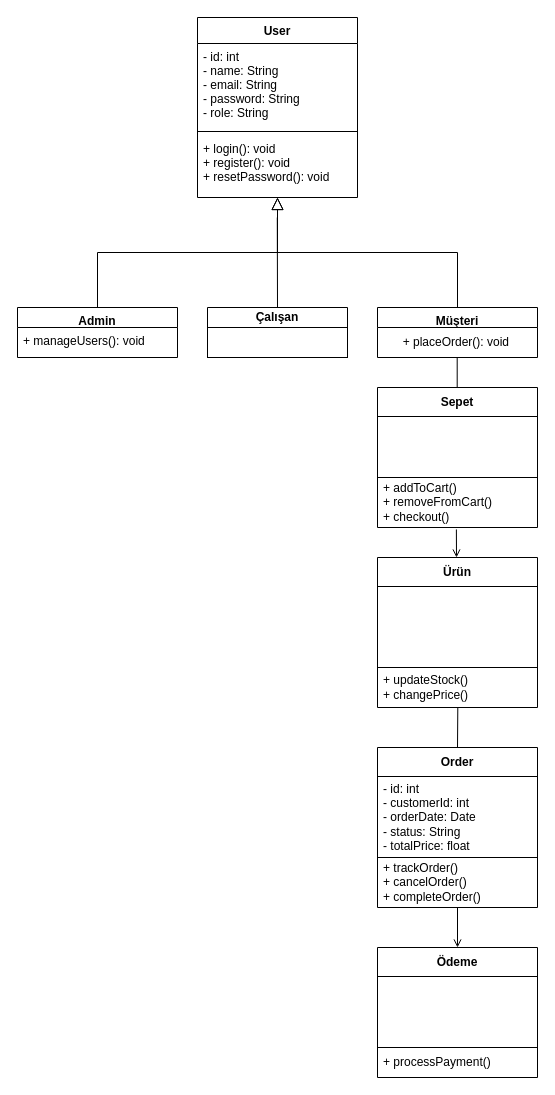
This 555x1095 diagram has some shape labels left out. The centre of each missing label's shape, as x and y in pixels:
"+ manageStock(): void" belongs at (277,342).
"- id: int - customerId: int - items: List<Product>" belongs at (457,447).
"- id: int - name: String - price: float - stockQuantity: int - category: String" belongs at (457,627).
"- id: int - orderId: int - paymentMethod: String - status: String" belongs at (457,1012).
